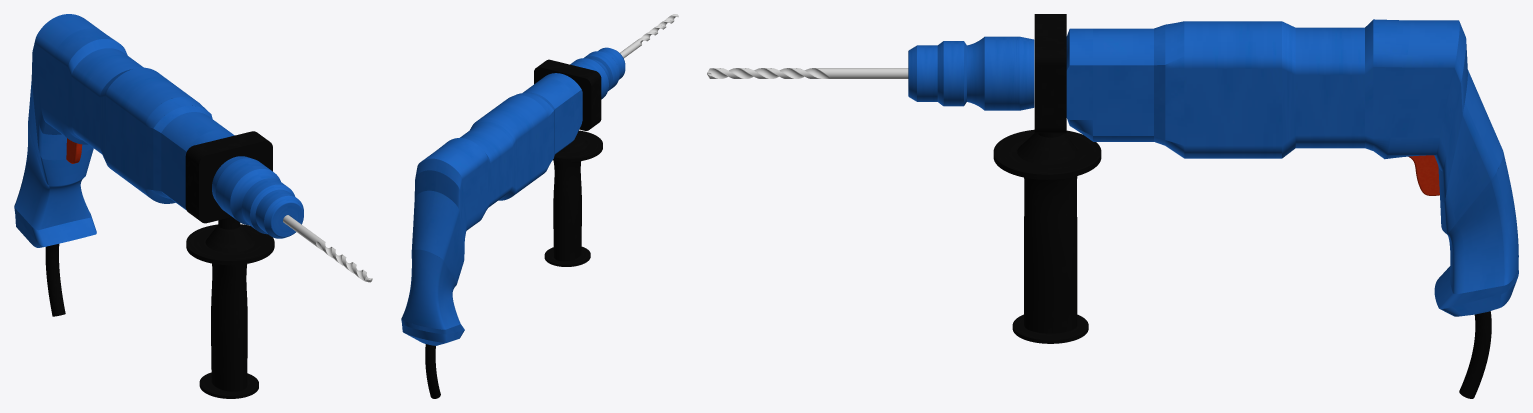
The model's file is hammerdrill-final.glb.
The picture shows the model from 3 angles, left to right: view 1: azimuth 30°, elevation 25°; view 2: azimuth 150°, elevation 25°; view 3: azimuth 270°, elevation 25°; orthographic projection. The views are drawn at different scales.
Visible parts, largest first — view 1: Mesh_Red_Combined, Mesh_44, Mesh_42, Mesh_7, Mesh_6, Mesh_3, Object_0, Mesh_5, Mesh_8, Mesh_50; view 2: Mesh_Red_Combined, Mesh_44, Mesh_42, Mesh_3, Mesh_7, Object_0, Mesh_5, Mesh_6; view 3: Mesh_Red_Combined, Mesh_44, Mesh_42, Mesh_7, Object_0, Mesh_3, Mesh_6, Mesh_50, Mesh_5.
Part boxes in pixels (left/top/right/bottom): Mesh_Red_Combined: left=14, top=14, right=303, bottom=247; Mesh_44: left=211, top=263, right=247, bottom=391; Mesh_42: left=185, top=131, right=272, bottom=223; Mesh_7: left=186, top=224, right=274, bottom=260; Mesh_6: left=205, top=224, right=255, bottom=252; Mesh_3: left=45, top=244, right=65, bottom=316; Object_0: left=283, top=215, right=372, bottom=282; Mesh_5: left=199, top=372, right=258, bottom=395; Mesh_8: left=186, top=243, right=274, bottom=265; Mesh_50: left=66, top=138, right=82, bottom=163; Mesh_Red_Combined: left=401, top=47, right=625, bottom=345; Mesh_44: left=553, top=160, right=581, bottom=261; Mesh_42: left=534, top=59, right=601, bottom=130; Mesh_3: left=425, top=344, right=440, bottom=398; Mesh_7: left=554, top=130, right=602, bottom=158; Object_0: left=620, top=14, right=678, bottom=58; Mesh_5: left=544, top=246, right=590, bottom=264; Mesh_6: left=560, top=133, right=587, bottom=152; Mesh_Red_Combined: left=908, top=19, right=1518, bottom=316; Mesh_44: left=1024, top=176, right=1077, bottom=333; Mesh_42: left=1034, top=14, right=1066, bottom=133; Mesh_7: left=993, top=129, right=1101, bottom=174; Object_0: left=707, top=68, right=908, bottom=78; Mesh_3: left=1459, top=311, right=1491, bottom=398; Mesh_6: left=1017, top=133, right=1077, bottom=164; Mesh_50: left=1408, top=155, right=1439, bottom=195; Mesh_5: left=1012, top=314, right=1088, bottom=340.
Bounding box in the file's own units: 0.0297 × 0.1134 × 0.2235.
7 materials, 6 textured.
